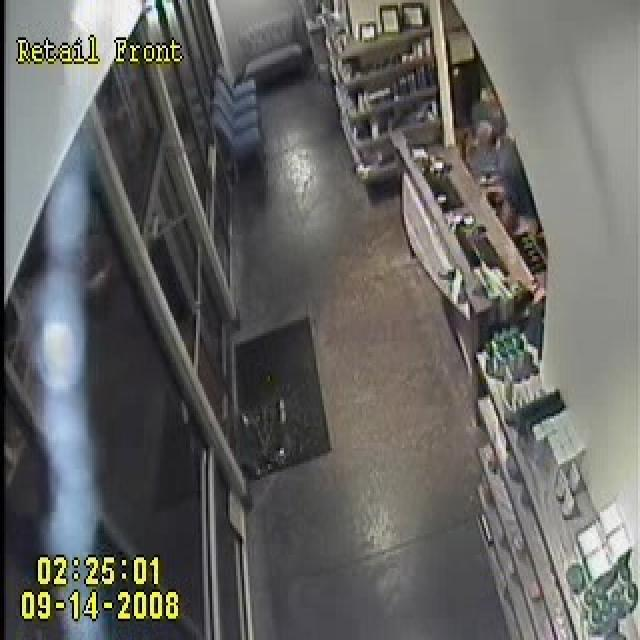thief: (498, 131, 533, 271)
